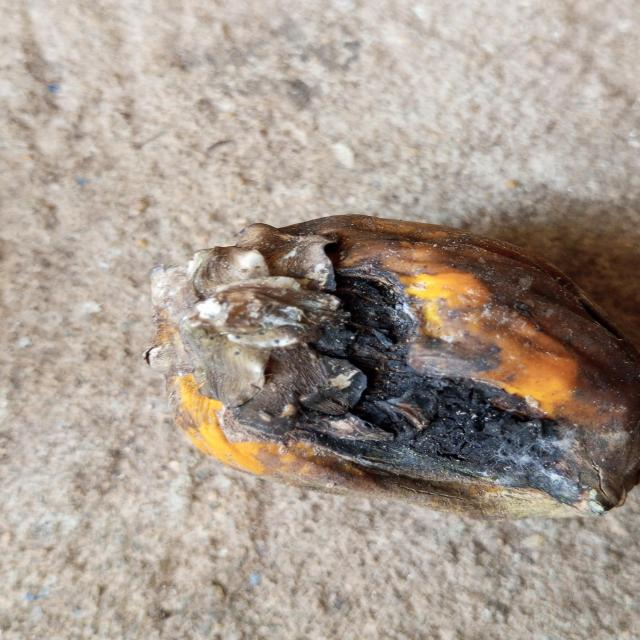damaged: (145, 215, 640, 517)
